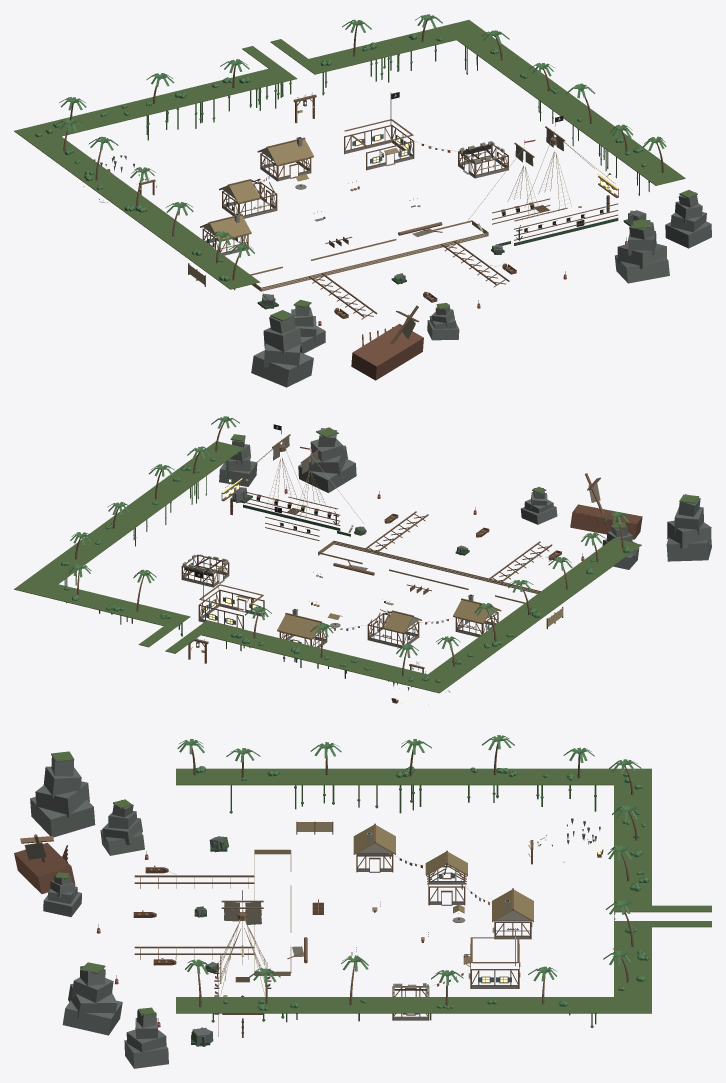
Rendered from decor.glb.
3 renders of one model, top to bottom at view 1: azimuth 30°, elevation 25°; view 2: azimuth 150°, elevation 25°; view 3: azimuth 270°, elevation 25°, orthographic. The views are drawn at different scales.
Parts seen in each view (by area): view 1: L_DecoCliffGrass_903, L_DecoCliffGrass_902, L_DecoCliffGrass_904, L_DecoCliffGrass_905, L_DecoWreckHull_1650, L_DecoSeaStack_1645, L_DecoSeaStack_1630, L_DecoSeaStack_1640, L_DecoSeaStack_1631, L_DecoRoofSlope_146, L_DecoSeaStack_1647, L_DecoSeaStack_1646 (+1 smaller); view 2: L_DecoCliffGrass_902, L_DecoCliffGrass_903, L_DecoCliffGrass_904, L_DecoCliffGrass_905, L_DecoWreckHull_1650, L_DecoSeaStack_1630, L_DecoSeaStack_1645, L_DecoSeaStack_1646, L_DecoRoofSlope_144, L_DecoSeaStack_1640, L_DecoSeaStack_1631, L_DecoRoofSlope_300 (+2 smaller); view 3: L_DecoCliffGrass_902, L_DecoCliffGrass_903, L_DecoCliffGrass_904, L_DecoCliffGrass_905, L_DecoWreckHull_1650, L_DecoSeaStack_1645, L_DecoSeaStack_1630, L_DecoSeaStack_1646, L_DecoSeaStack_1640, L_DecoSeaStack_1647, L_DecoSeaStack_1631, L_DecoSeaStack_1625 (+3 smaller).
Boxes of the visible parts, <box> form: L_DecoCliffGrass_903: <box>440,20,685,185</box>; L_DecoCliffGrass_902: <box>14,124,260,289</box>; L_DecoCliffGrass_904: <box>14,66,297,143</box>; L_DecoCliffGrass_905: <box>298,20,485,74</box>; L_DecoWreckHull_1650: <box>351,323,423,380</box>; L_DecoSeaStack_1645: <box>251,350,313,387</box>; L_DecoSeaStack_1630: <box>614,255,669,283</box>; L_DecoSeaStack_1640: <box>665,221,711,248</box>; L_DecoSeaStack_1631: <box>617,244,666,268</box>; L_DecoRoofSlope_146: <box>267,139,313,165</box>; L_DecoSeaStack_1647: <box>263,326,301,353</box>; L_DecoSeaStack_1646: <box>263,336,301,369</box>; L_DecoCliffGrass_902: <box>411,538,641,693</box>; L_DecoCliffGrass_903: <box>14,441,243,596</box>; L_DecoCliffGrass_904: <box>191,620,455,692</box>; L_DecoCliffGrass_905: <box>14,577,190,627</box>; L_DecoWreckHull_1650: <box>570,504,642,539</box>; L_DecoSeaStack_1630: <box>298,459,356,492</box>; L_DecoSeaStack_1645: <box>666,537,711,561</box>; L_DecoSeaStack_1646: <box>667,520,711,548</box>; L_DecoRoofSlope_144: <box>277,614,320,638</box>; L_DecoSeaStack_1640: <box>219,461,257,486</box>; L_DecoSeaStack_1631: <box>308,445,347,475</box>; L_DecoRoofSlope_300: <box>453,600,491,623</box>; L_DecoCliffGrass_902: <box>176,768,651,785</box>; L_DecoCliffGrass_903: <box>176,997,651,1013</box>; L_DecoCliffGrass_904: <box>614,768,651,912</box>; L_DecoCliffGrass_905: <box>614,921,651,1013</box>; L_DecoWreckHull_1650: <box>14,842,75,893</box>; L_DecoSeaStack_1645: <box>30,797,95,837</box>; L_DecoSeaStack_1630: <box>62,1000,122,1035</box>; L_DecoSeaStack_1646: <box>35,781,89,817</box>; L_DecoSeaStack_1640: <box>124,1040,168,1068</box>; L_DecoSeaStack_1647: <box>43,766,81,797</box>; L_DecoSeaStack_1631: <box>68,984,117,1018</box>; L_DecoSeaStack_1625: <box>100,829,144,855</box>.
Bounding box in the file's own units: 103 × 24.16 × 116.
